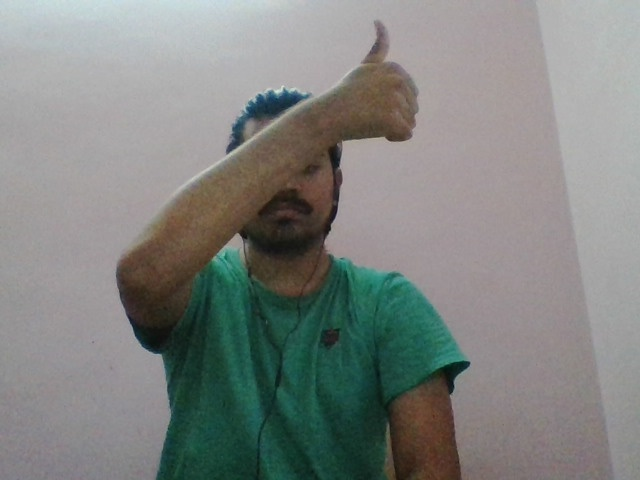ThumbsUp: (346, 17, 421, 144)
